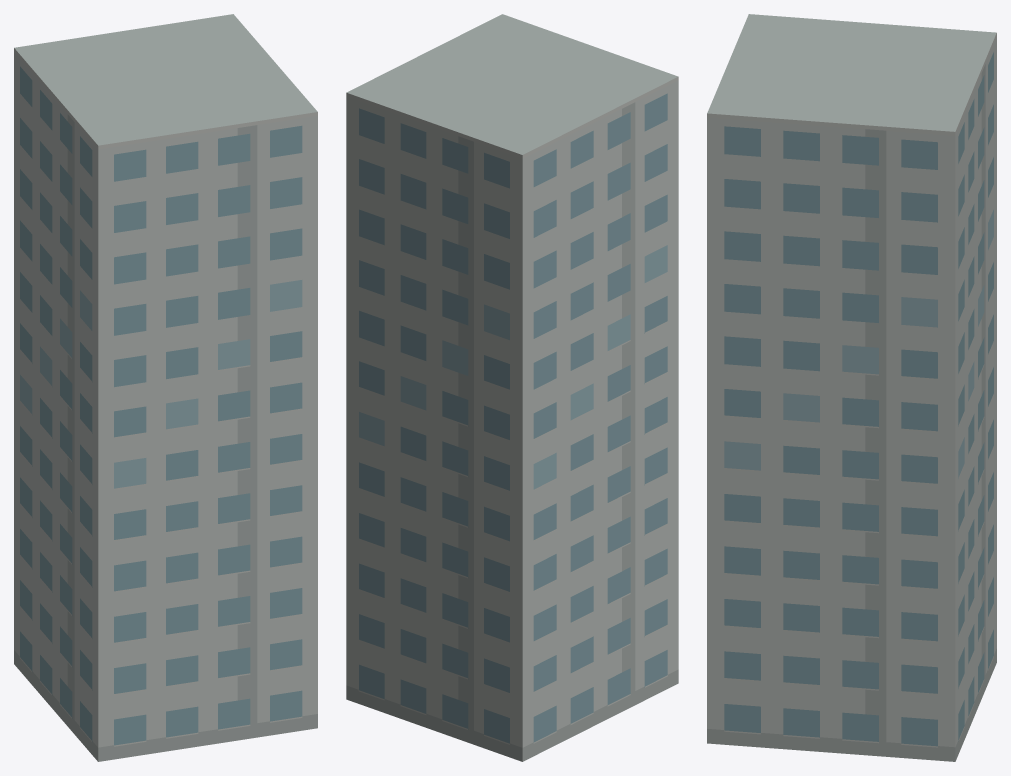
The model's file is residential-c4b28a2f-6894-48b9-b1d3-dd3d2466db63.glb.
3 renders of one model, left to right at view 1: azimuth 30°, elevation 25°; view 2: azimuth 150°, elevation 25°; view 3: azimuth 270°, elevation 25°, orthographic. The views are drawn at different scales.
Parts seen in each view (by area): view 1: residential-c4b28a2f-6894-48b9-b1d3-dd3d2466db63.tmp; view 2: residential-c4b28a2f-6894-48b9-b1d3-dd3d2466db63.tmp; view 3: residential-c4b28a2f-6894-48b9-b1d3-dd3d2466db63.tmp.
Boxes of the visible parts, x1,y1,x2,y2 form: residential-c4b28a2f-6894-48b9-b1d3-dd3d2466db63.tmp: (14,14,317,761); residential-c4b28a2f-6894-48b9-b1d3-dd3d2466db63.tmp: (346,14,678,761); residential-c4b28a2f-6894-48b9-b1d3-dd3d2466db63.tmp: (707,14,996,761).
Size of the model in its own units: 15.66 by 39 by 16.26.
